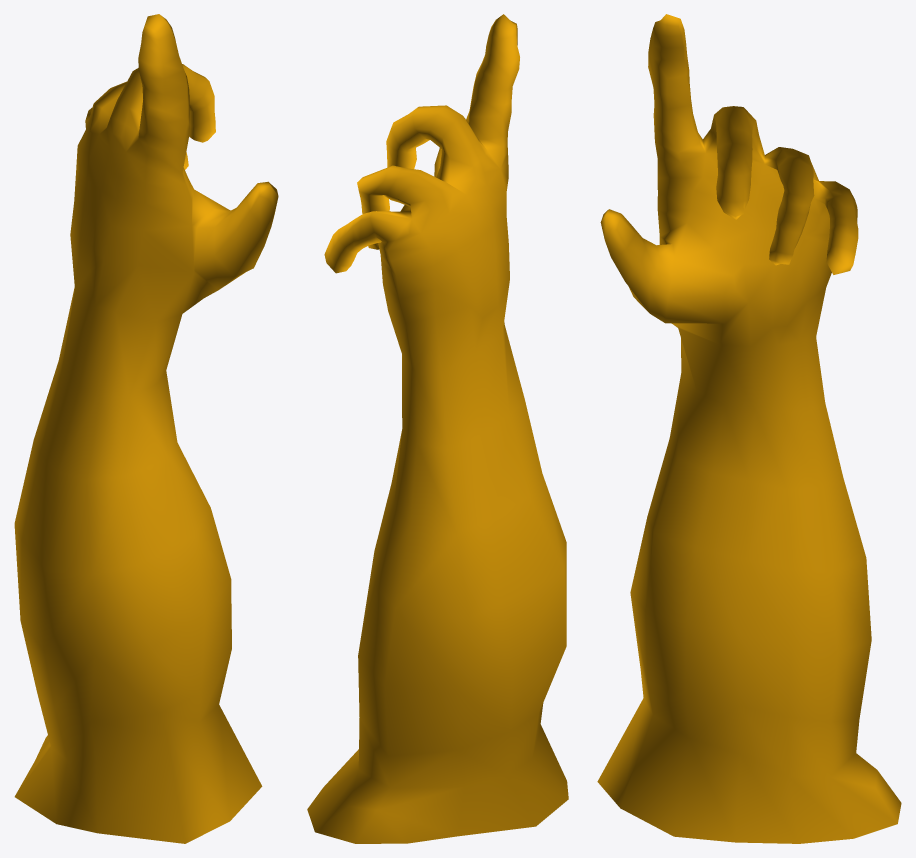
Rendered from hand_Unbroken.fbx.
The picture shows the model from 3 angles, left to right: view 1: azimuth 30°, elevation 25°; view 2: azimuth 150°, elevation 25°; view 3: azimuth 270°, elevation 25°; orthographic projection. The views are drawn at different scales.
Visible parts, largest first — view 1: hand_Unbroken; view 2: hand_Unbroken; view 3: hand_Unbroken.
Boxes of the visible parts, box(x1,y1,x2,y2) form: hand_Unbroken: box(14, 14, 278, 843); hand_Unbroken: box(307, 14, 568, 843); hand_Unbroken: box(597, 14, 901, 843).
Bounding box in the file's own units: 0.305 × 1.09 × 0.3896.
